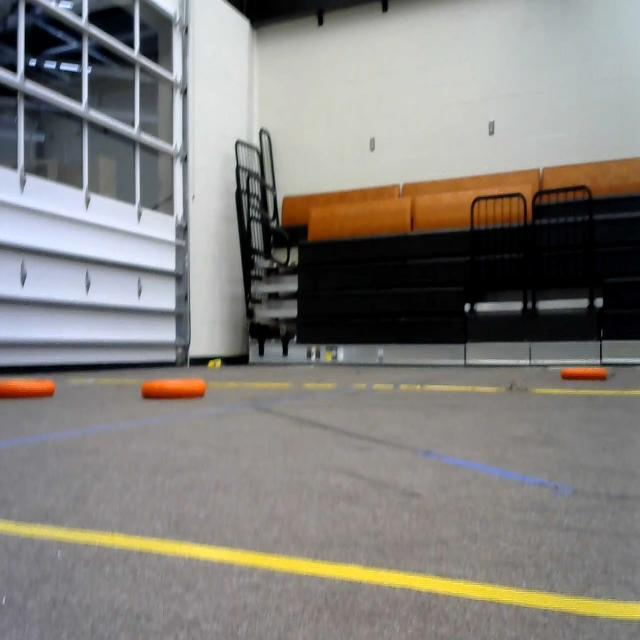note: (0, 372, 57, 407), (136, 375, 212, 400), (558, 364, 608, 382)
